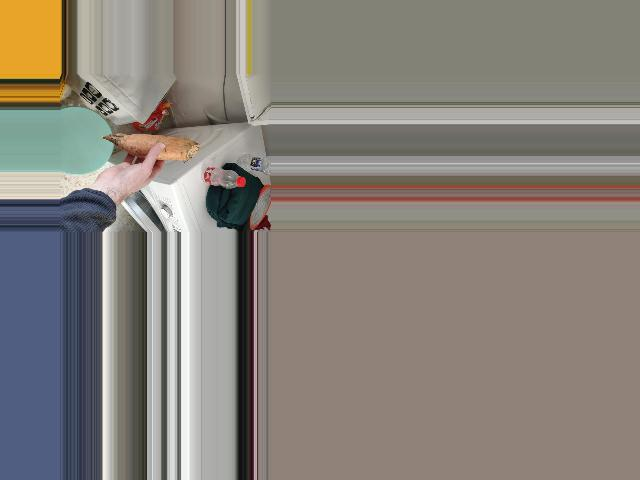sweet_potato: (101, 136, 203, 157)
